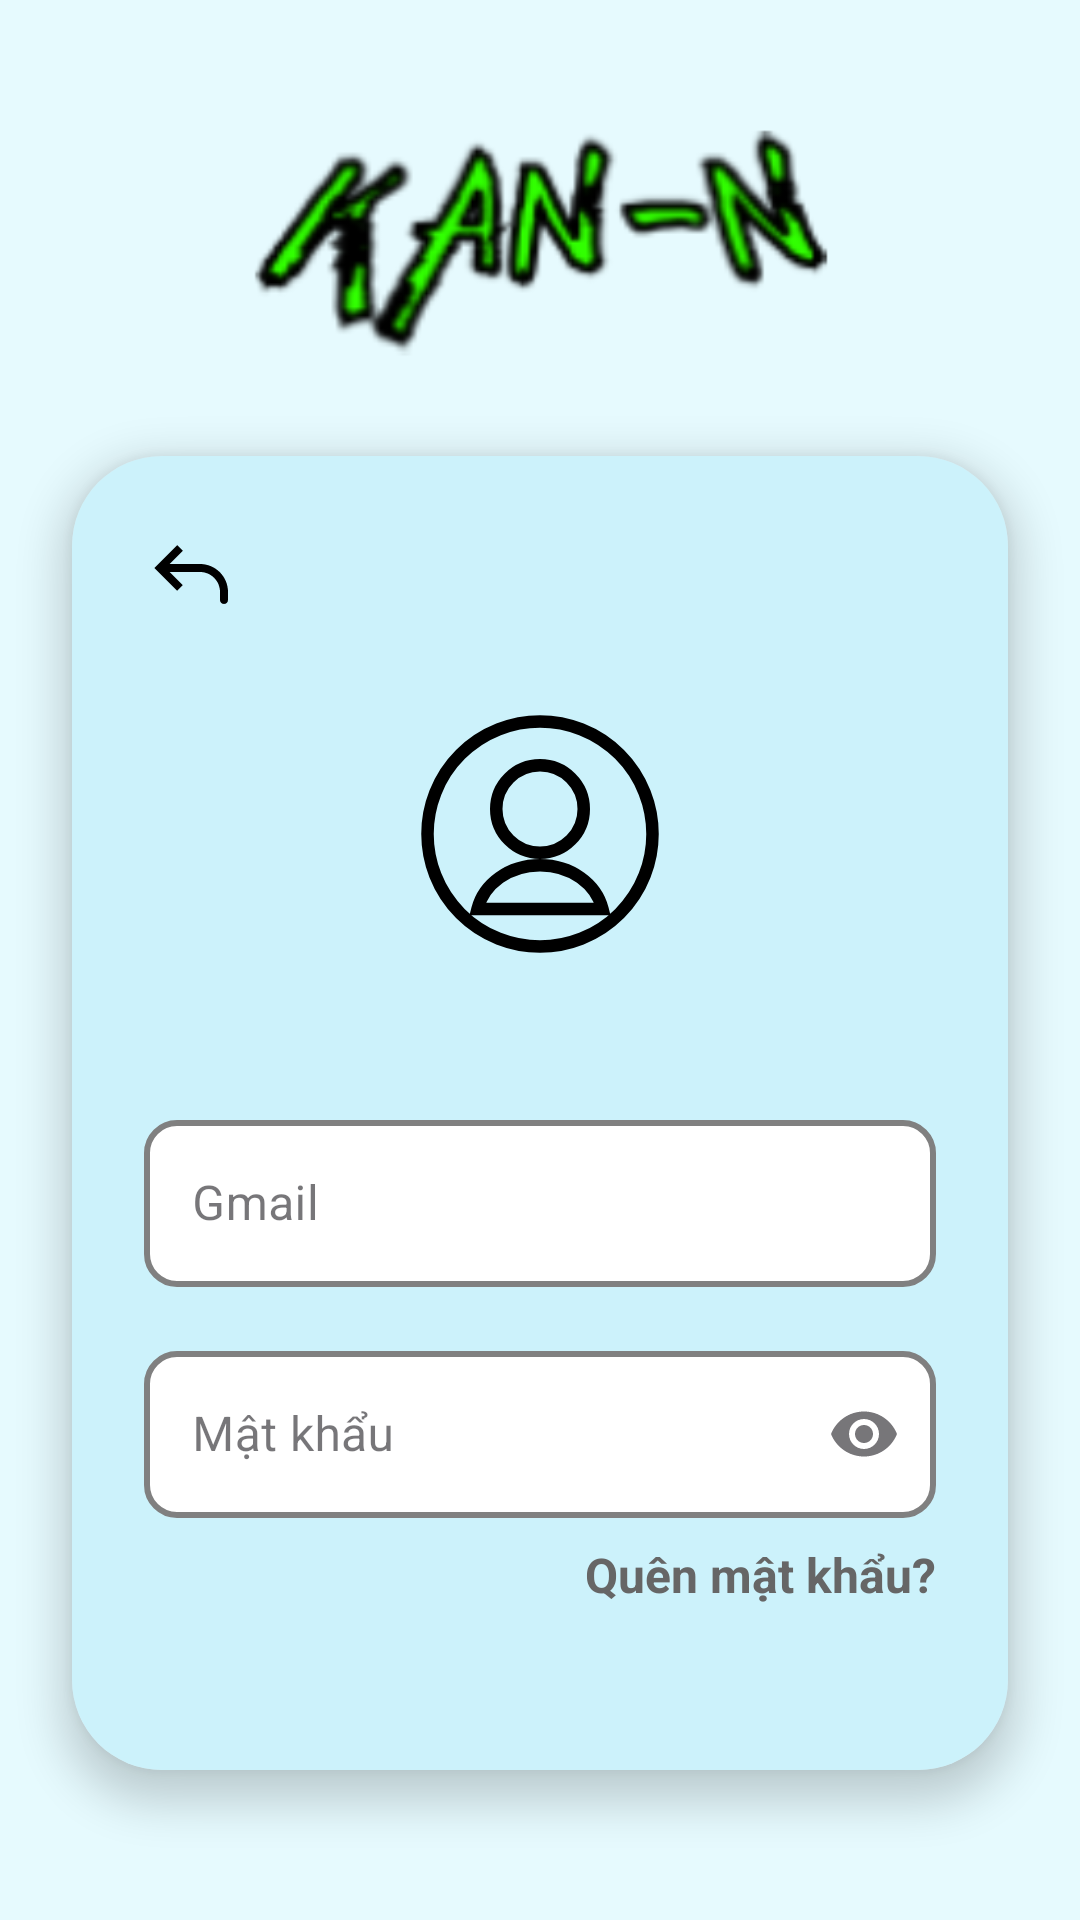

Locate icon controls on the screen. Image size 1080 × 1920, boxes as (x1, y1, x2, y2).
Avatar người dùng: (421, 715, 659, 953)
Quay lại: (154, 545, 228, 604)
